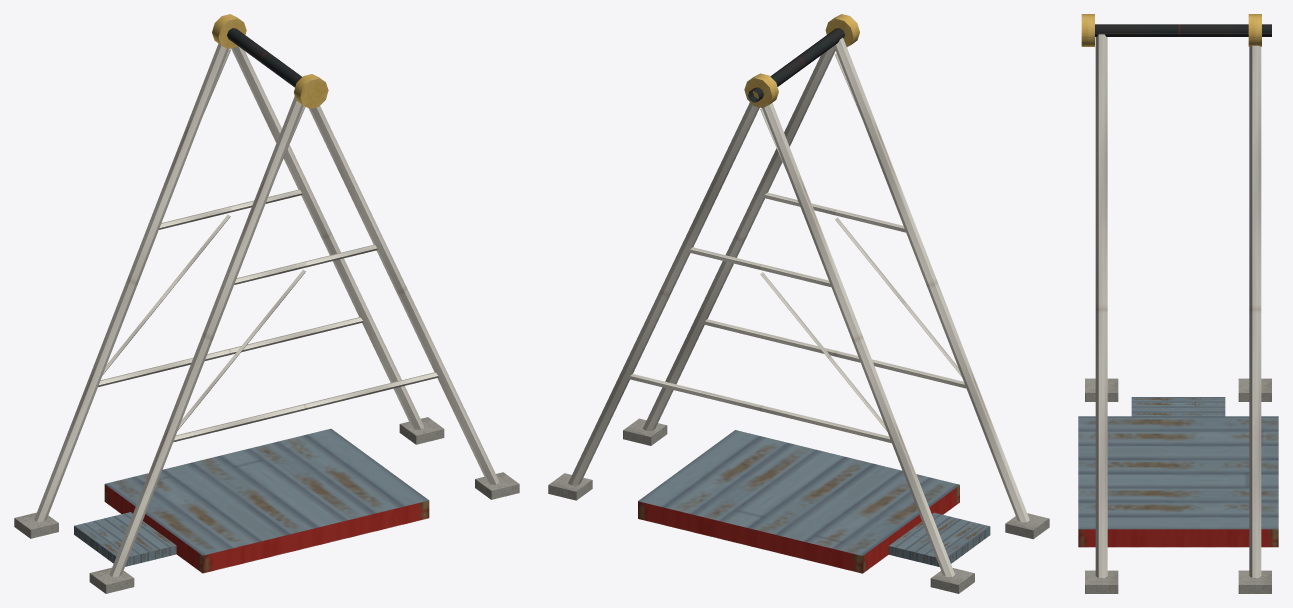
The model's file is ferris_wheel_base.obj.
3 views of the same model, side by side, from view 1: azimuth 30°, elevation 25°; view 2: azimuth 150°, elevation 25°; view 3: azimuth 270°, elevation 25° (orthographic). The views are drawn at different scales.
Visible parts, largest first — view 1: ferris_wheel_base, ferris_wheel_base_front, ferris_wheel_base_back, ferris_wheel_base_axle; view 2: ferris_wheel_base, ferris_wheel_base_back, ferris_wheel_base_front, ferris_wheel_base_axle; view 3: ferris_wheel_base, ferris_wheel_base_front, ferris_wheel_base_back, ferris_wheel_base_axle.
Part boxes in pixels (x1,y1,x2,y2): ferris_wheel_base: (74,428,429,573); ferris_wheel_base_front: (89,74,519,593); ferris_wheel_base_back: (14,14,444,538); ferris_wheel_base_axle: (227,28,301,87); ferris_wheel_base: (638,430,990,573); ferris_wheel_base_back: (548,73,974,593); ferris_wheel_base_front: (623,14,1049,539); ferris_wheel_base_axle: (748,28,844,102); ferris_wheel_base: (1078,397,1278,547); ferris_wheel_base_front: (1081,14,1118,593); ferris_wheel_base_back: (1238,14,1271,593); ferris_wheel_base_axle: (1095,24,1271,36).
Bounding box in the file's own units: 7.3 × 7.87 × 3.
1 material, 1 textured.
